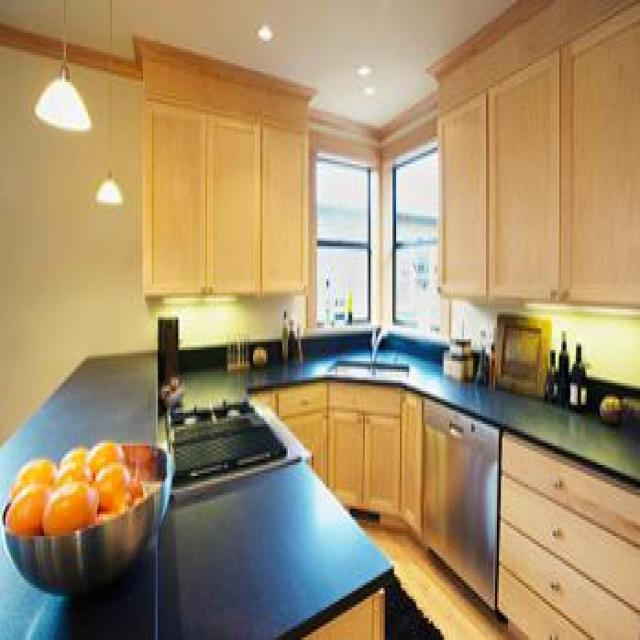dishwasher: (422, 391, 497, 624)
